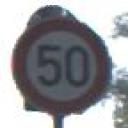speed_limit_50: (11, 12, 117, 116)
